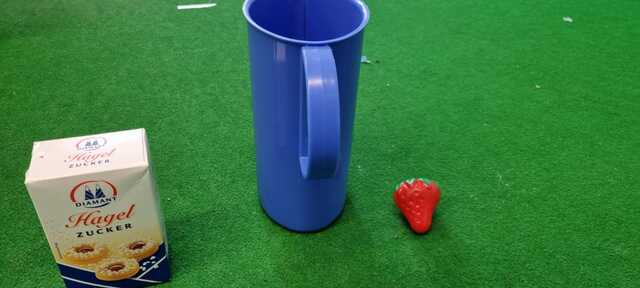004_sugar_box: (23, 127, 179, 288)
012_strawberry: (393, 177, 443, 235)
019_pitcher_base: (240, 1, 371, 235)
